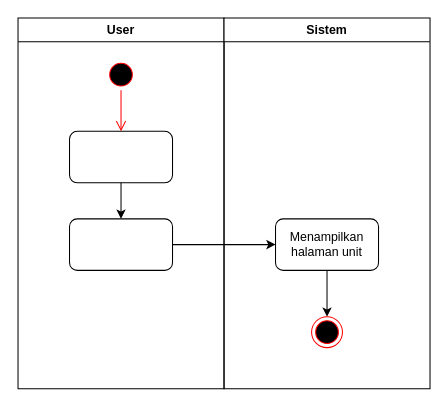
This 448x407 diagram has some shape labels left out. Here are the shapes that lost their labels. From the top down, the centre of each, then its label:
At pixel 120 156: "Pilih Master Data pada Sidebar".
At pixel 120 244: "Pilih Unit".
